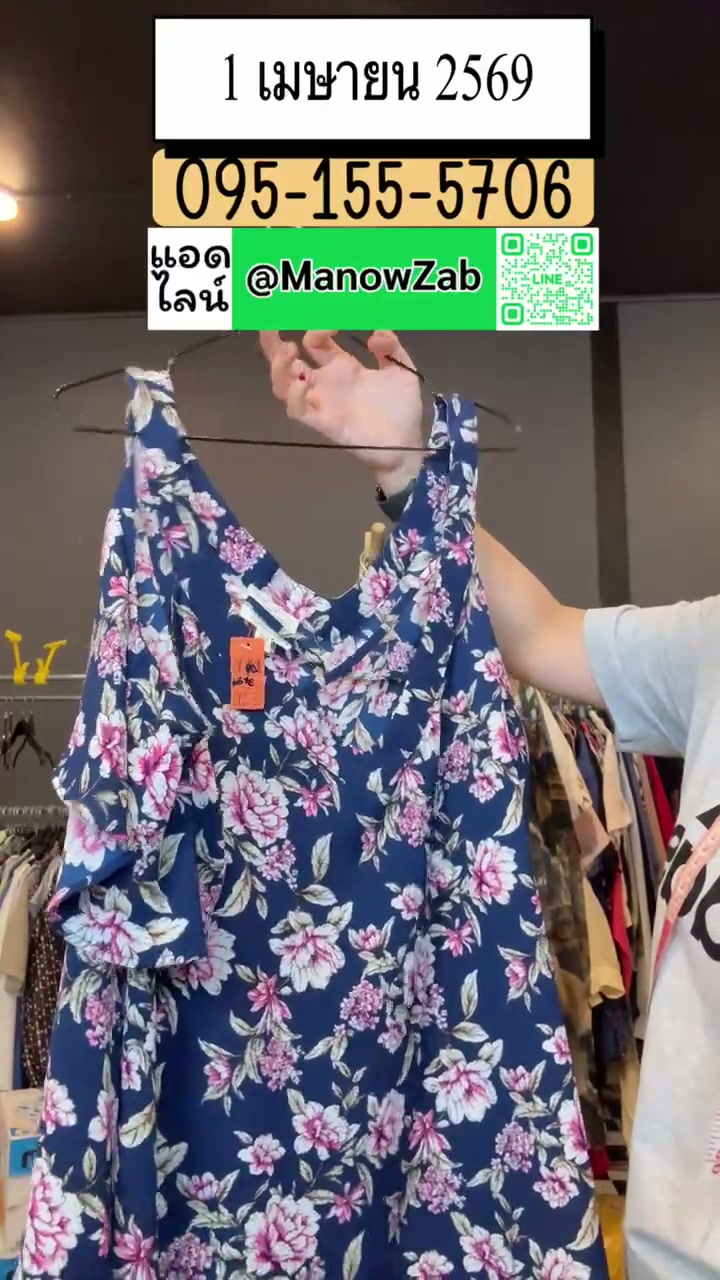display_shirt: (18, 370, 603, 1279)
